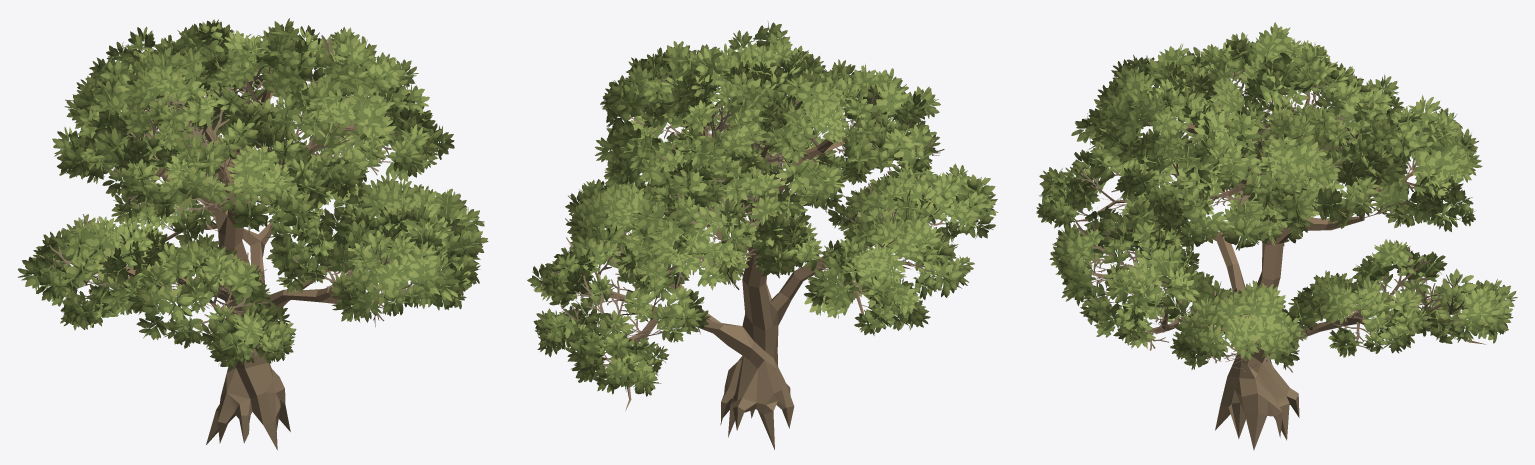
The model's file is tree_hero_broadleaf_01_mobile.glb.
3 renders of one model, left to right at view 1: azimuth 30°, elevation 25°; view 2: azimuth 150°, elevation 25°; view 3: azimuth 270°, elevation 25°, orthographic. The views are drawn at different scales.
Parts seen in each view (by area): view 1: SM_Env_Tree_Meadow_01_LOD2, SM_Env_Tree_Meadow_01_Branches_LOD2; view 2: SM_Env_Tree_Meadow_01_LOD2, SM_Env_Tree_Meadow_01_Branches_LOD2; view 3: SM_Env_Tree_Meadow_01_LOD2, SM_Env_Tree_Meadow_01_Branches_LOD2.
Part boxes in pixels (box(x1,y1,x2,y2)): SM_Env_Tree_Meadow_01_LOD2: box(17, 18, 488, 450); SM_Env_Tree_Meadow_01_Branches_LOD2: box(39, 35, 455, 356); SM_Env_Tree_Meadow_01_LOD2: box(527, 21, 998, 449); SM_Env_Tree_Meadow_01_Branches_LOD2: box(541, 71, 963, 368); SM_Env_Tree_Meadow_01_LOD2: box(1036, 22, 1517, 450); SM_Env_Tree_Meadow_01_Branches_LOD2: box(1055, 47, 1499, 372).
Size of the model in its own units: 10.58 by 9.4 by 10.71.
Materials: 3 (3 with a texture image).
